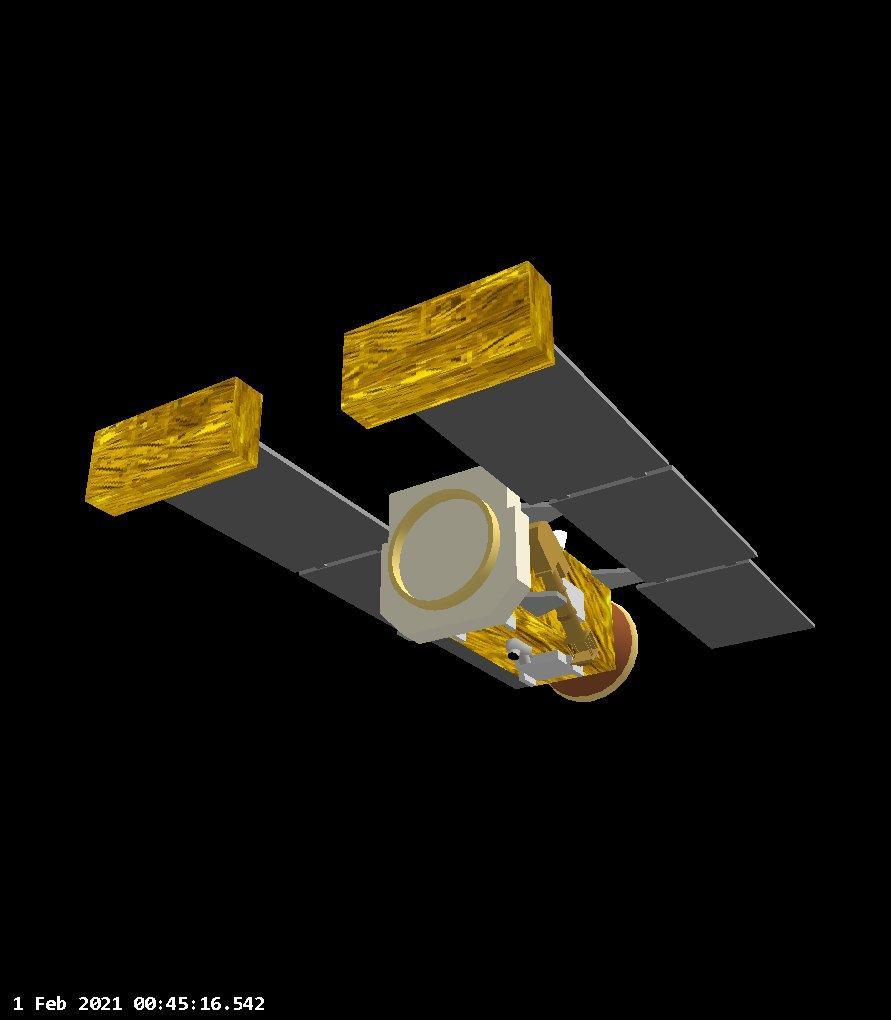body: (447, 547, 618, 690)
solar: (418, 346, 819, 654), (162, 437, 537, 691)
thruster: (549, 598, 645, 704), (508, 649, 520, 661), (520, 653, 532, 665)
